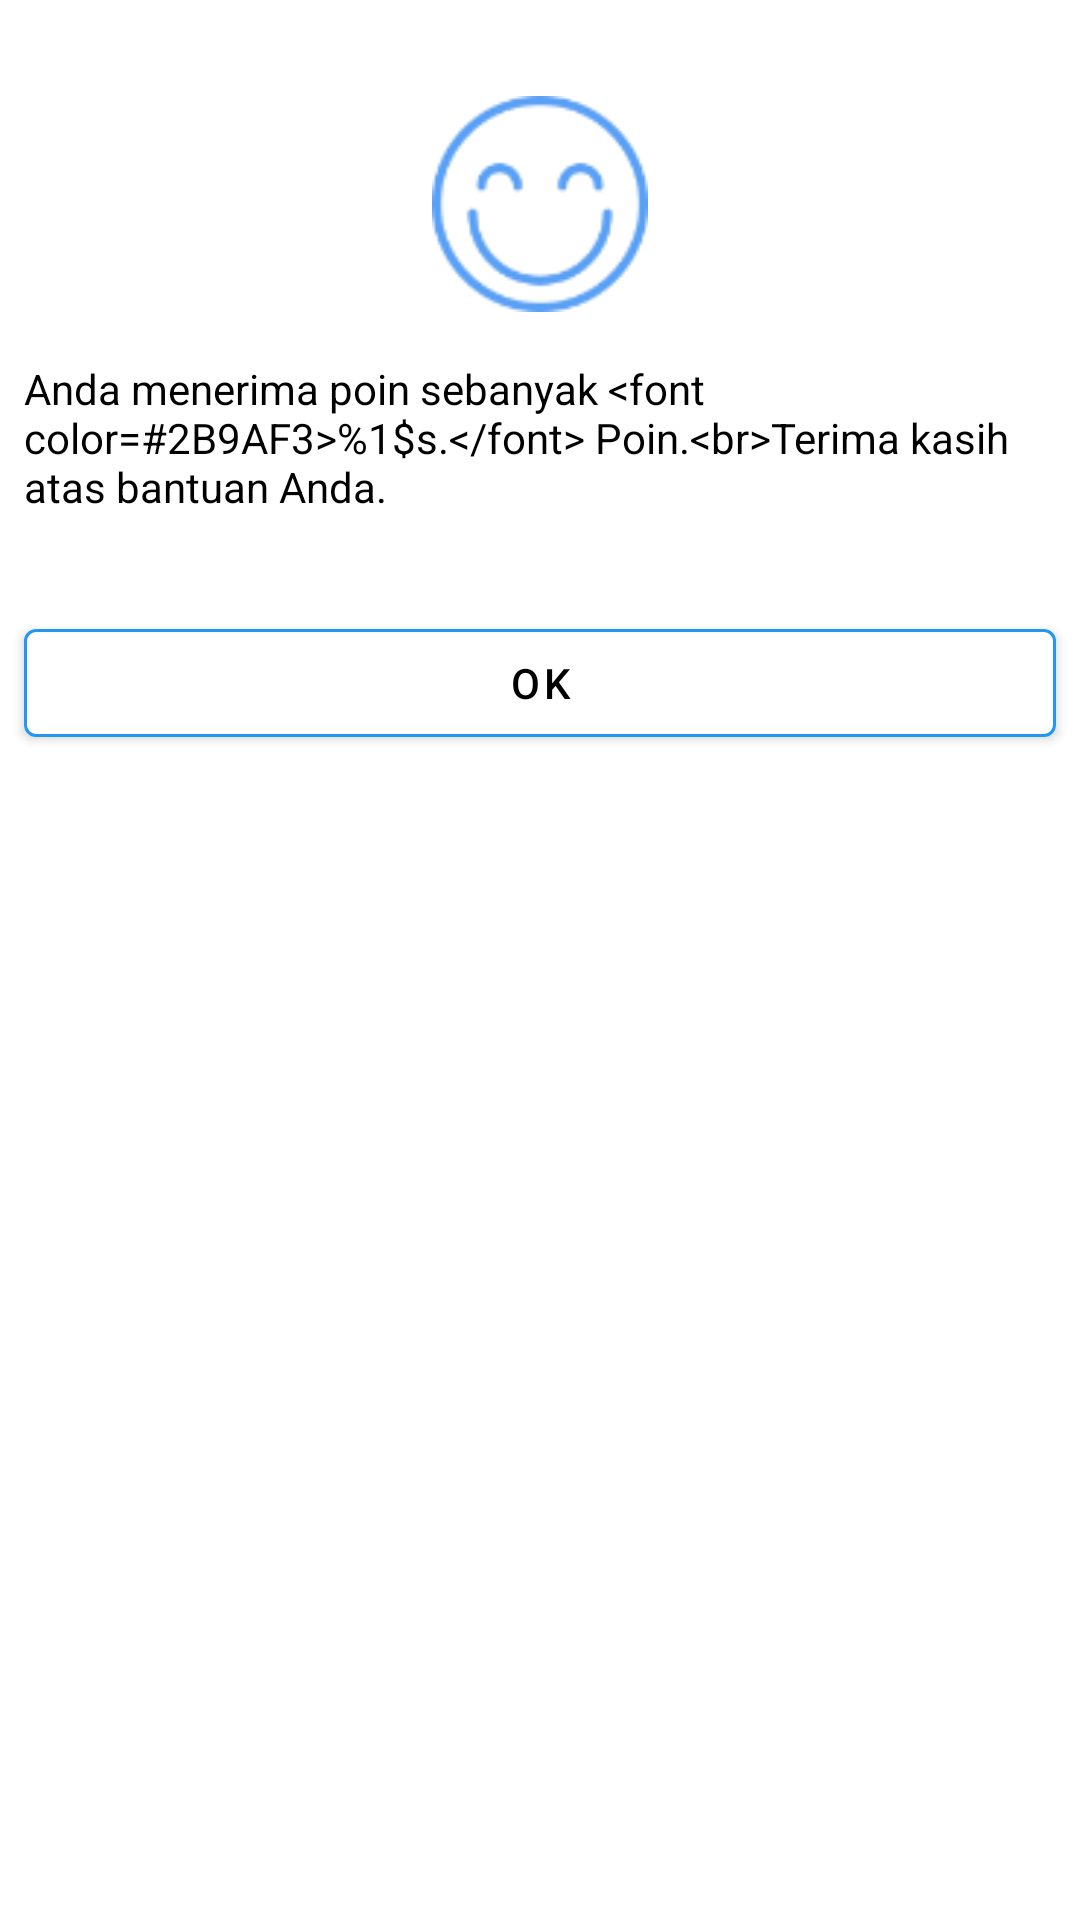

Icon bounding boxes for this 1080 × 1920 phone screenshot, format (x1, y1, x2, y2):
smiley: (432, 96, 648, 312)
